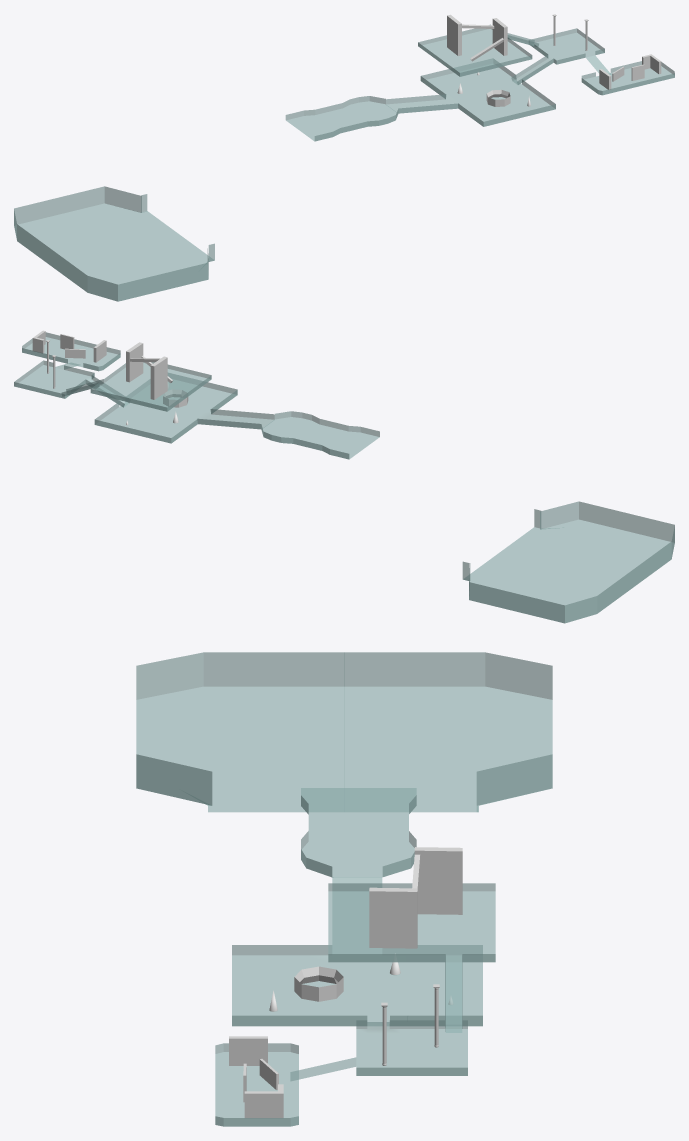
File: Map3.fbx
3 renders of one model, top to bottom at view 1: azimuth 30°, elevation 25°; view 2: azimuth 150°, elevation 25°; view 3: azimuth 270°, elevation 25°, orthographic. The views are drawn at different scales.
Parts seen in each view (by area): view 1: pCube20; view 2: pCube20; view 3: pCube20.
Boxes of the visible parts, box(x1,y1,x2,y2) form: pCube20: box(14, 14, 674, 301); pCube20: box(14, 330, 674, 623); pCube20: box(136, 652, 552, 1126).
Bounding box in the file's own units: 2451 × 500 × 746.
